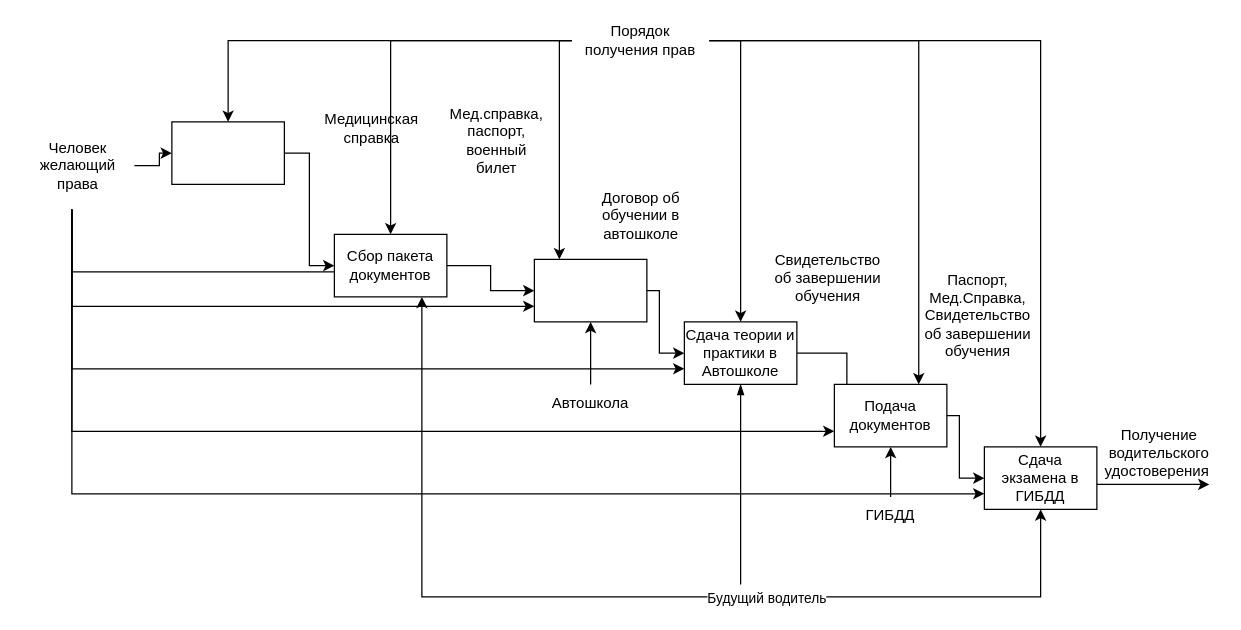
This 1241x630 diagram has some shape labels left out. The box of each missing label's shape, as (x1, y1, x2, y2) in pixels:
Поступление на обучение: (533, 258, 647, 322)
Проведение медицинского осмотра: (171, 121, 284, 184)
